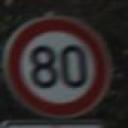speed_limit_80: (10, 11, 118, 117)
